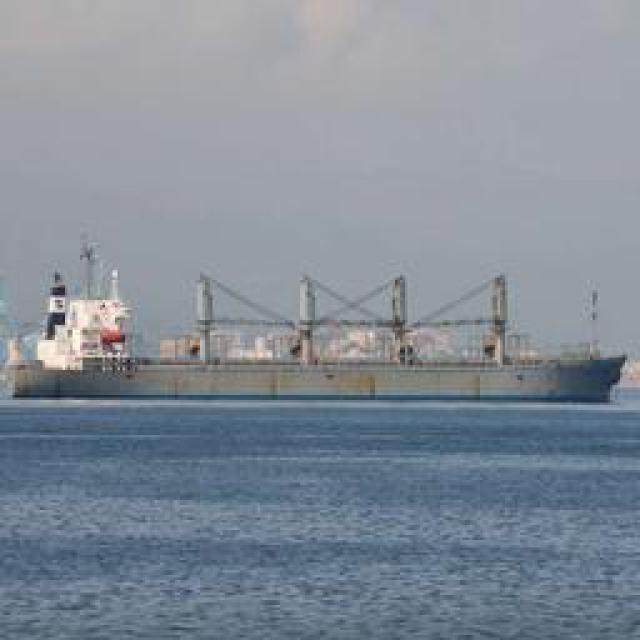Ship: (12, 227, 640, 416)
